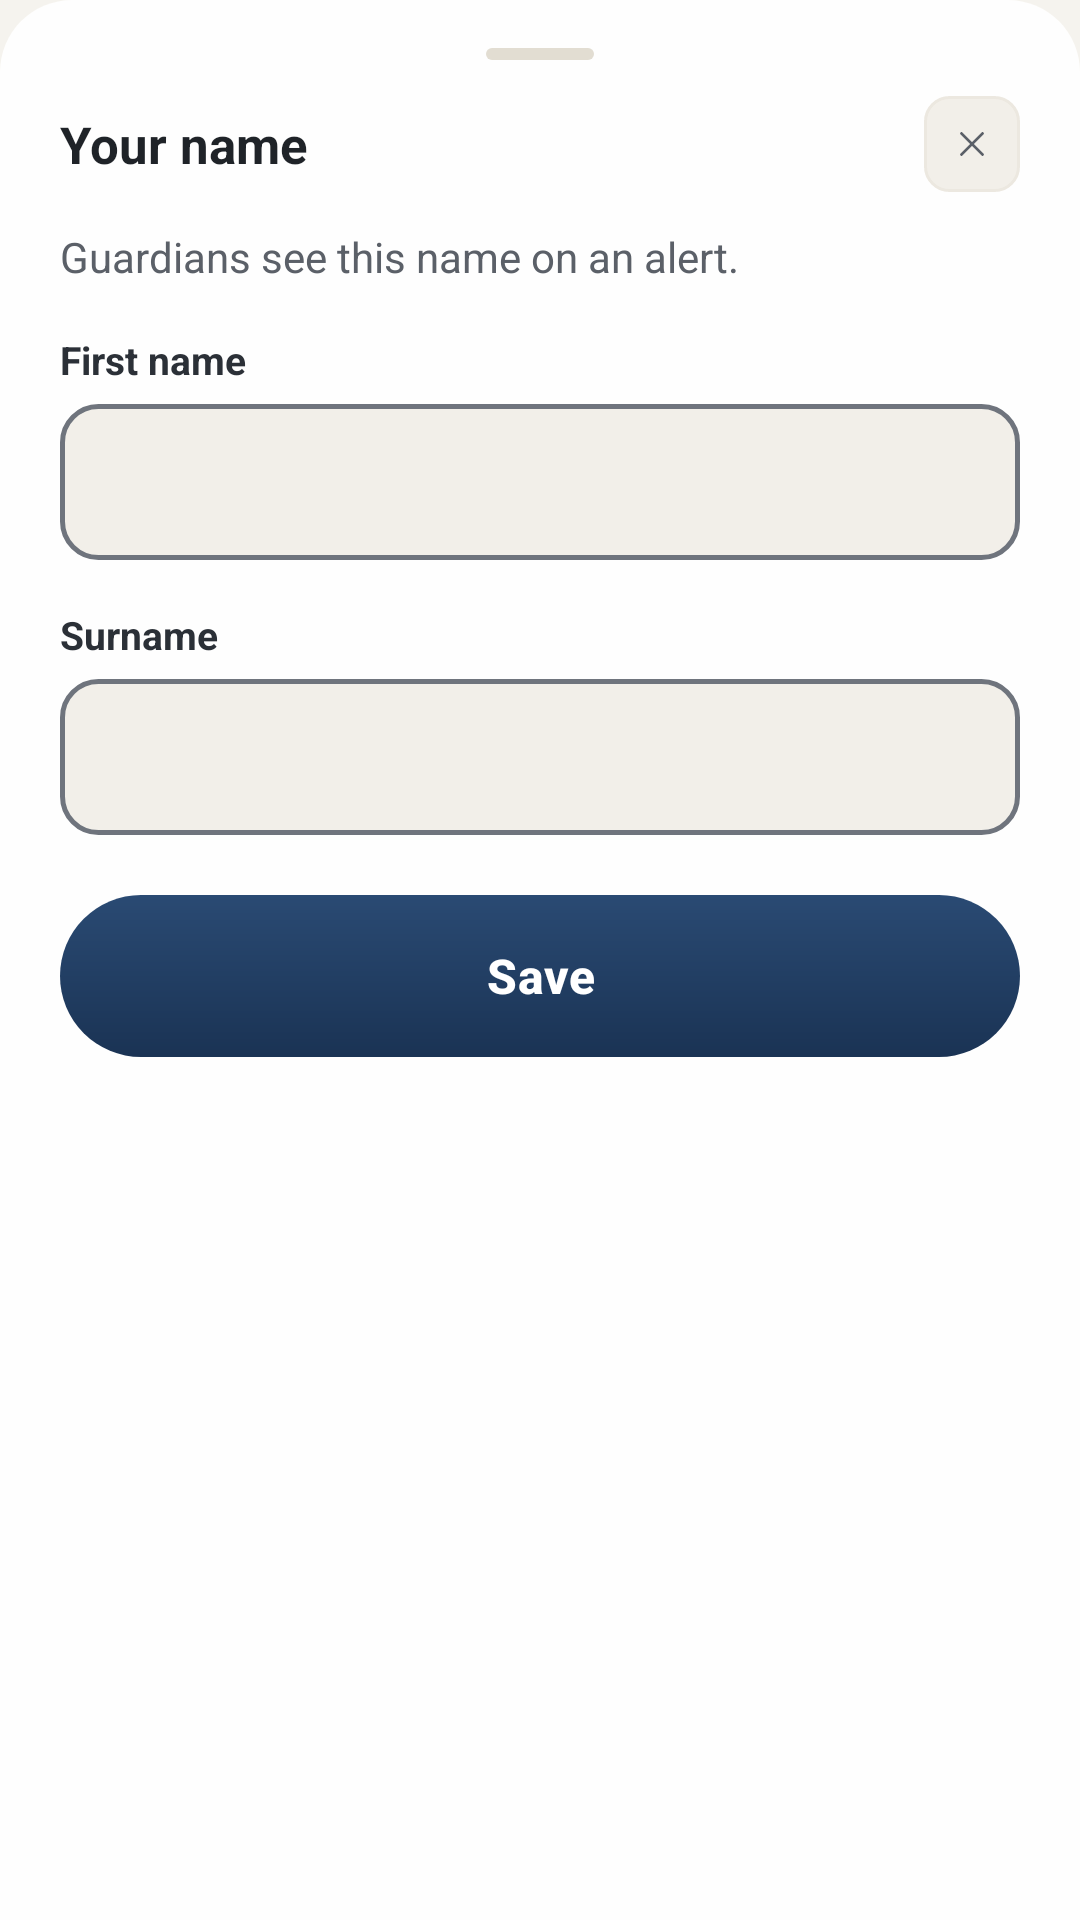

Icon bounding boxes for this 1080px×1920px phone screenshot, format (x1, y1, x2, y2):
Close: (924, 96, 1020, 192)
